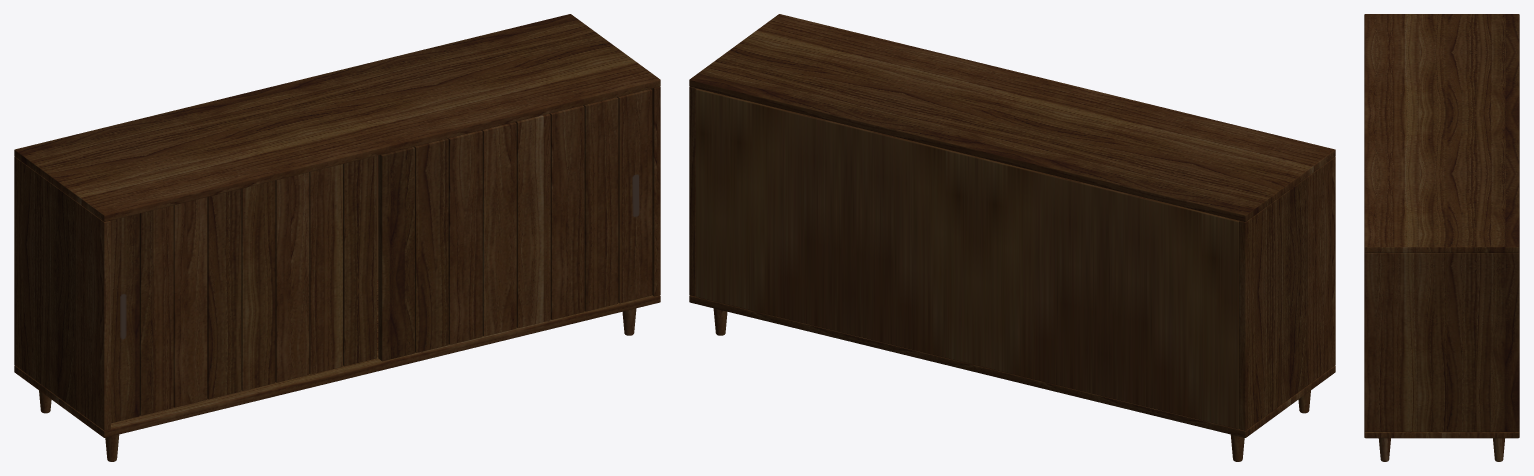
File: MEGA_PACK_CABINET__cabinet-149435_frame_brown.glb
3 renders of one model, left to right at view 1: azimuth 30°, elevation 25°; view 2: azimuth 150°, elevation 25°; view 3: azimuth 270°, elevation 25°, orthographic. The views are drawn at different scales.
Parts seen in each view (by area): view 1: cabinet-149435_frame_brown; view 2: cabinet-149435_frame_brown; view 3: cabinet-149435_frame_brown.
Boxes of the visible parts, x1,y1,x2,y2 form: cabinet-149435_frame_brown: (14, 14, 660, 461); cabinet-149435_frame_brown: (689, 14, 1335, 461); cabinet-149435_frame_brown: (1364, 14, 1519, 461).
Bounding box in the file's own units: 1.6 × 0.71 × 0.45.
1 material, 1 textured.
